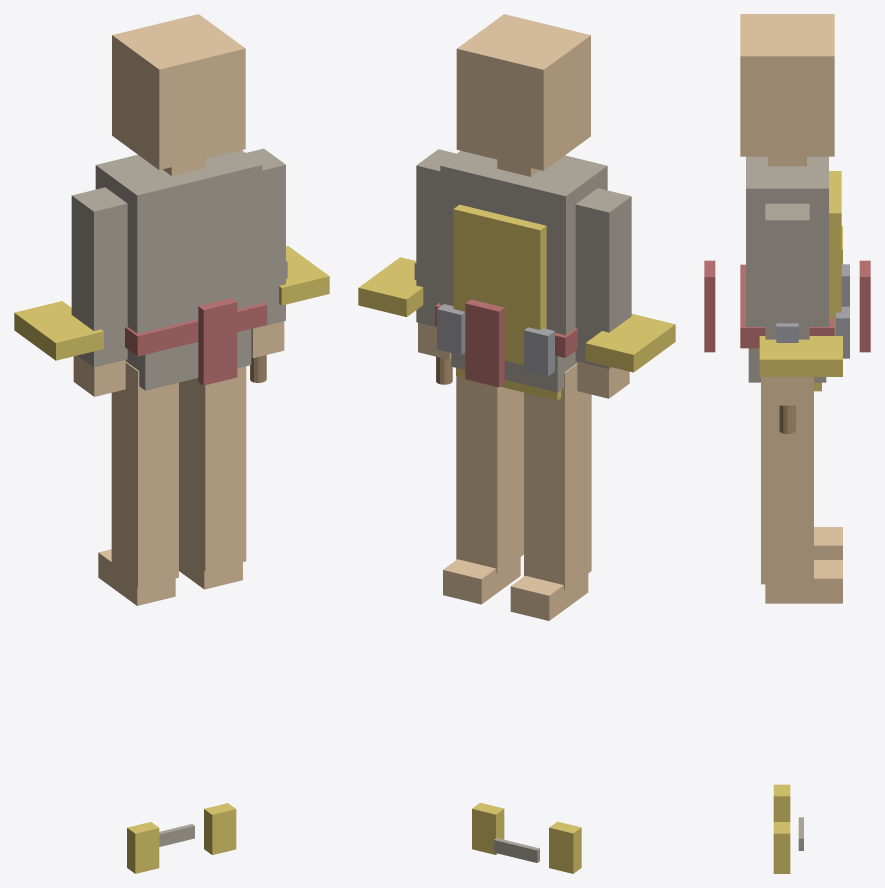
File: hephaestus.glb
3 views of the same model, side by side, from view 1: azimuth 30°, elevation 25°; view 2: azimuth 150°, elevation 25°; view 3: azimuth 270°, elevation 25° (orthographic).
Visible parts, largest first — view 1: torso, head, leg_L_shin, leg_R_shin, arm_L_upper, arm_R_upper, outfit_armor_2, outfit_armor_4, hips, outfit_belt_0, outfit_armor_1, leg_L_foot (+5 smaller); view 2: head, leg_L_shin, torso, leg_R_shin, outfit_apron_0, arm_L_upper, arm_R_upper, outfit_armor_2, outfit_armor_3, outfit_armor_1, leg_L_foot, leg_R_foot (+8 smaller); view 3: head, leg_R_shin, torso, arm_R_upper, outfit_armor_1, leg_R_foot, outfit_apron_0, arm_R_hand, outfit_belt_0, outfit_armor_3, outfit_armor_4, leg_L_foot (+7 smaller).
Boxes of the visible parts, left/top/right/bottom form: torso: left=95, top=150, right=262, bottom=333; head: left=112, top=14, right=245, bottom=169; leg_L_shin: left=111, top=361, right=178, bottom=587; leg_R_shin: left=179, top=366, right=246, bottom=571; arm_L_upper: left=71, top=187, right=127, bottom=367; arm_R_upper: left=246, top=148, right=285, bottom=328; outfit_armor_2: left=14, top=301, right=103, bottom=360; outfit_armor_4: left=198, top=298, right=237, bottom=385; hips: left=125, top=329, right=251, bottom=390; outfit_belt_0: left=125, top=301, right=267, bottom=356; outfit_armor_1: left=279, top=246, right=329, bottom=305; leg_L_foot: left=98, top=549, right=175, bottom=605; head: left=456, top=14, right=590, bottom=170; leg_L_shin: left=524, top=363, right=591, bottom=590; torso: left=440, top=151, right=607, bottom=335; leg_R_shin: left=456, top=376, right=523, bottom=573; outfit_apron_0: left=453, top=204, right=546, bottom=365; arm_L_upper: left=575, top=188, right=631, bottom=369; arm_R_upper: left=416, top=149, right=456, bottom=326; outfit_armor_2: left=585, top=313, right=675, bottom=372; outfit_armor_3: left=465, top=299, right=504, bottom=387; outfit_armor_1: left=358, top=257, right=423, bottom=317; leg_L_foot: left=510, top=574, right=588, bottom=620; leg_R_foot: left=443, top=557, right=520, bottom=604; head: left=740, top=14, right=834, bottom=156; leg_R_shin: left=761, top=377, right=813, bottom=584; torso: left=746, top=156, right=828, bottom=326; arm_R_upper: left=765, top=203, right=809, bottom=339; outfit_armor_1: left=759, top=336, right=842, bottom=376; leg_R_foot: left=765, top=560, right=842, bottom=603; outfit_apron_0: left=829, top=171, right=841, bottom=335; arm_R_hand: left=766, top=377, right=808, bottom=405; outfit_belt_0: left=740, top=264, right=834, bottom=348; outfit_armor_3: left=859, top=260, right=870, bottom=352; outfit_armor_4: left=704, top=260, right=715, bottom=352; leg_L_foot: left=814, top=527, right=842, bottom=559.
Size of the model in its own units: 1.14 by 3.24 by 0.6.
